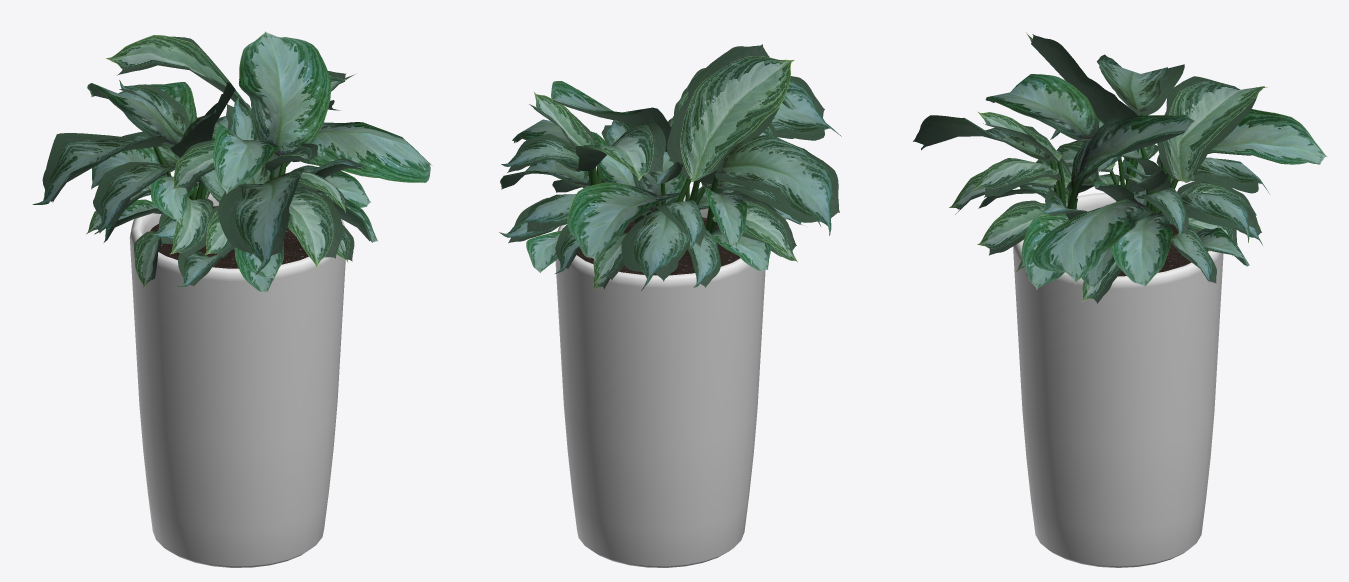
The model's file is Pot.fbx.
3 views of the same model, side by side, from view 1: azimuth 30°, elevation 25°; view 2: azimuth 150°, elevation 25°; view 3: azimuth 270°, elevation 25° (orthographic). The views are drawn at different scales.
Parts seen in each view (by area): view 1: potTall_aglaonema; view 2: potTall_aglaonema; view 3: potTall_aglaonema.
Part boxes in pixels (x1=…): potTall_aglaonema: x1=32, y1=31, x2=432, y2=567; potTall_aglaonema: x1=499, y1=44, x2=841, y2=567; potTall_aglaonema: x1=913, y1=32, x2=1327, y2=567.
Size of the model in its own units: 125 by 161 by 130.
3 materials, 2 textured.
